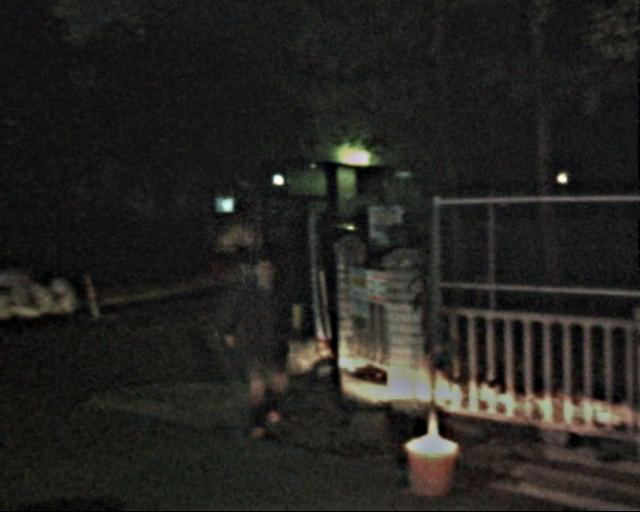person: (223, 246, 295, 440)
